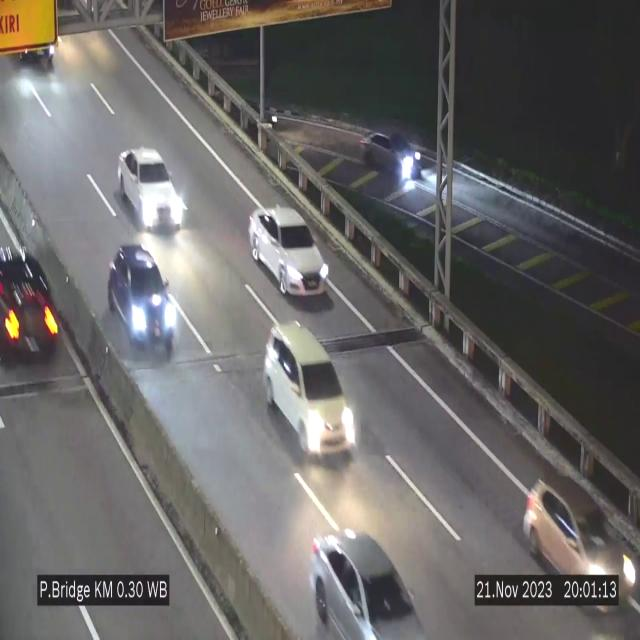Car: (507, 468, 640, 614), (303, 530, 418, 640), (264, 322, 356, 458), (0, 239, 66, 372), (108, 245, 180, 355), (248, 206, 329, 297), (352, 112, 432, 195), (118, 147, 184, 230)
